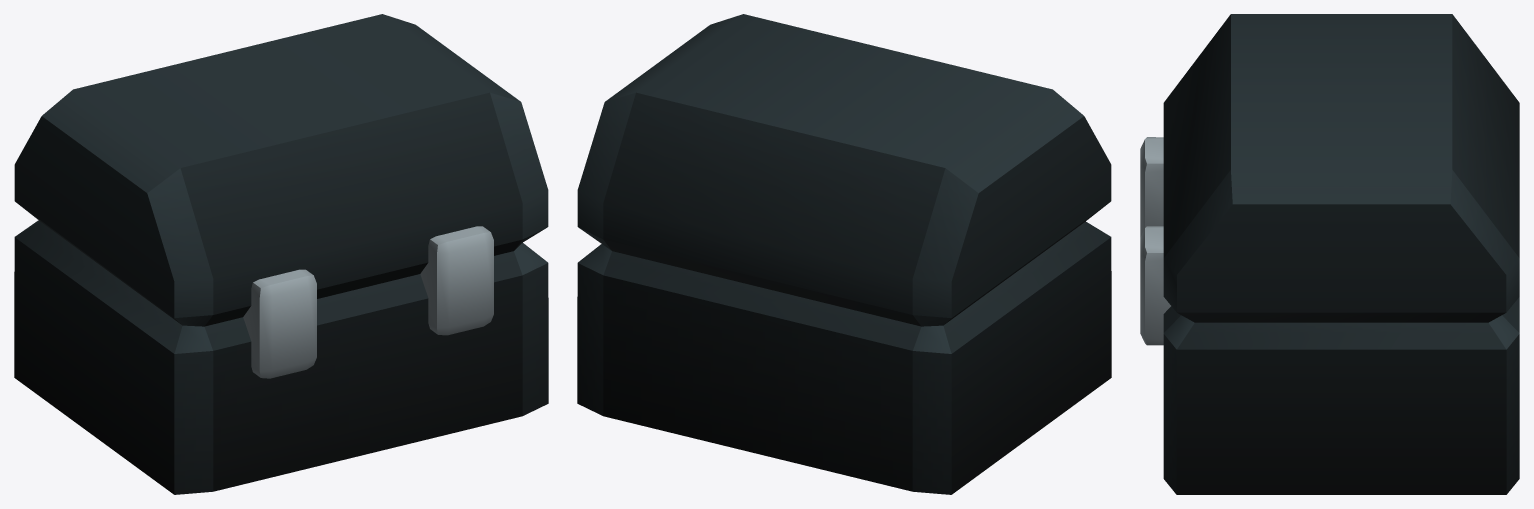
Rendered from ammo_crate.fbx.
3 renders of one model, left to right at view 1: azimuth 30°, elevation 25°; view 2: azimuth 150°, elevation 25°; view 3: azimuth 270°, elevation 25°, orthographic. The views are drawn at different scales.
Parts seen in each view (by area): view 1: ammo_crate; view 2: ammo_crate; view 3: ammo_crate.
Boxes of the visible parts, x1,y1,x2,y2 form: ammo_crate: (14,14,548,494); ammo_crate: (577,14,1111,494); ammo_crate: (1140,14,1519,494).
Bounding box in the file's own units: 57.5 × 46 × 49.01.
